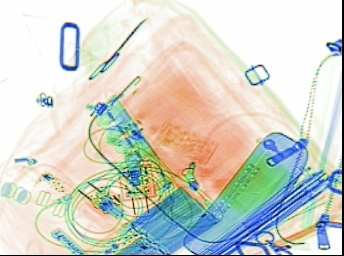powerbank: (78, 182, 222, 253)
